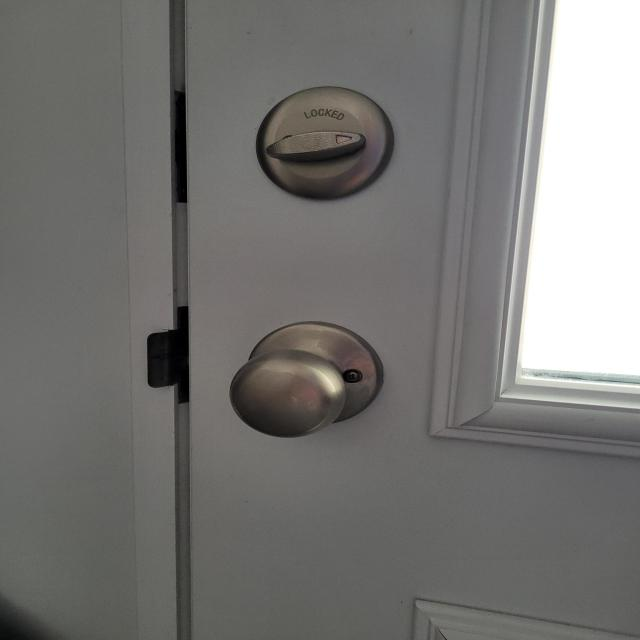door-knob: (230, 321, 383, 438)
